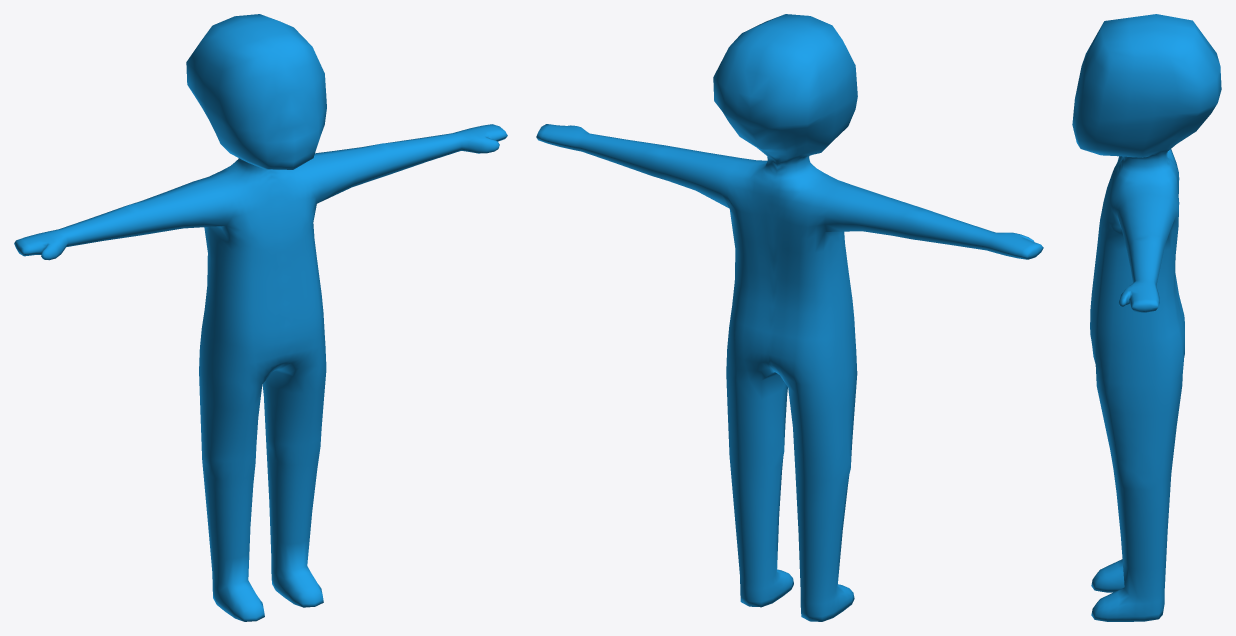
Rendered from Character.fbx.
3 views of the same model, side by side, from view 1: azimuth 30°, elevation 25°; view 2: azimuth 150°, elevation 25°; view 3: azimuth 270°, elevation 25° (orthographic). The views are drawn at different scales.
Visible parts, largest first — view 1: Character; view 2: Character; view 3: Character.
Part boxes in pixels (x1,y1,x2,y2): Character: [14, 14, 507, 621]; Character: [536, 14, 1043, 621]; Character: [1072, 14, 1221, 621].
Bounding box in the file's own units: 15500 × 17372 × 4060.
